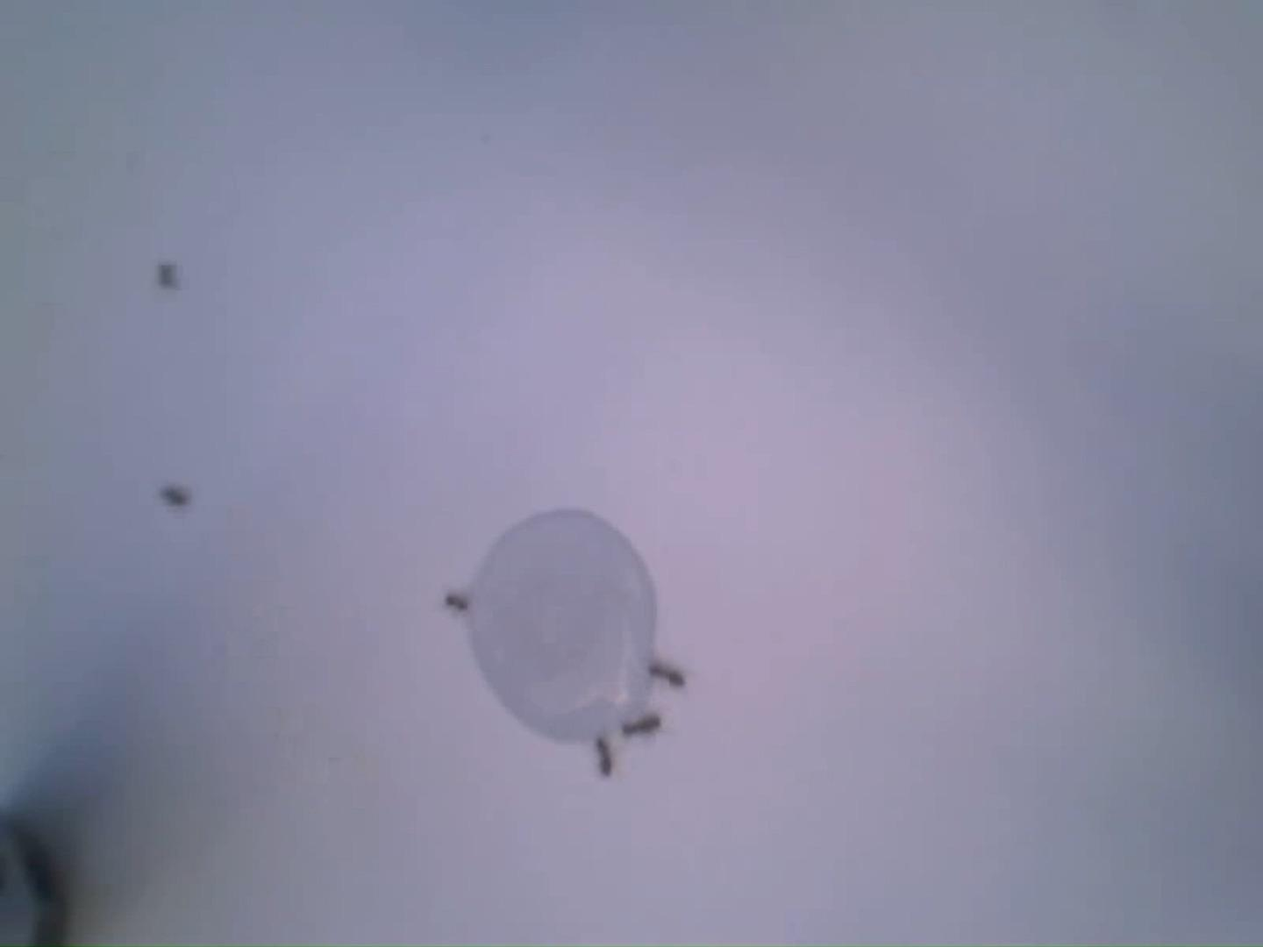Ant: (626, 712, 666, 736), (650, 661, 686, 686), (598, 736, 615, 776), (164, 485, 191, 506), (160, 261, 178, 288), (447, 593, 471, 611)
